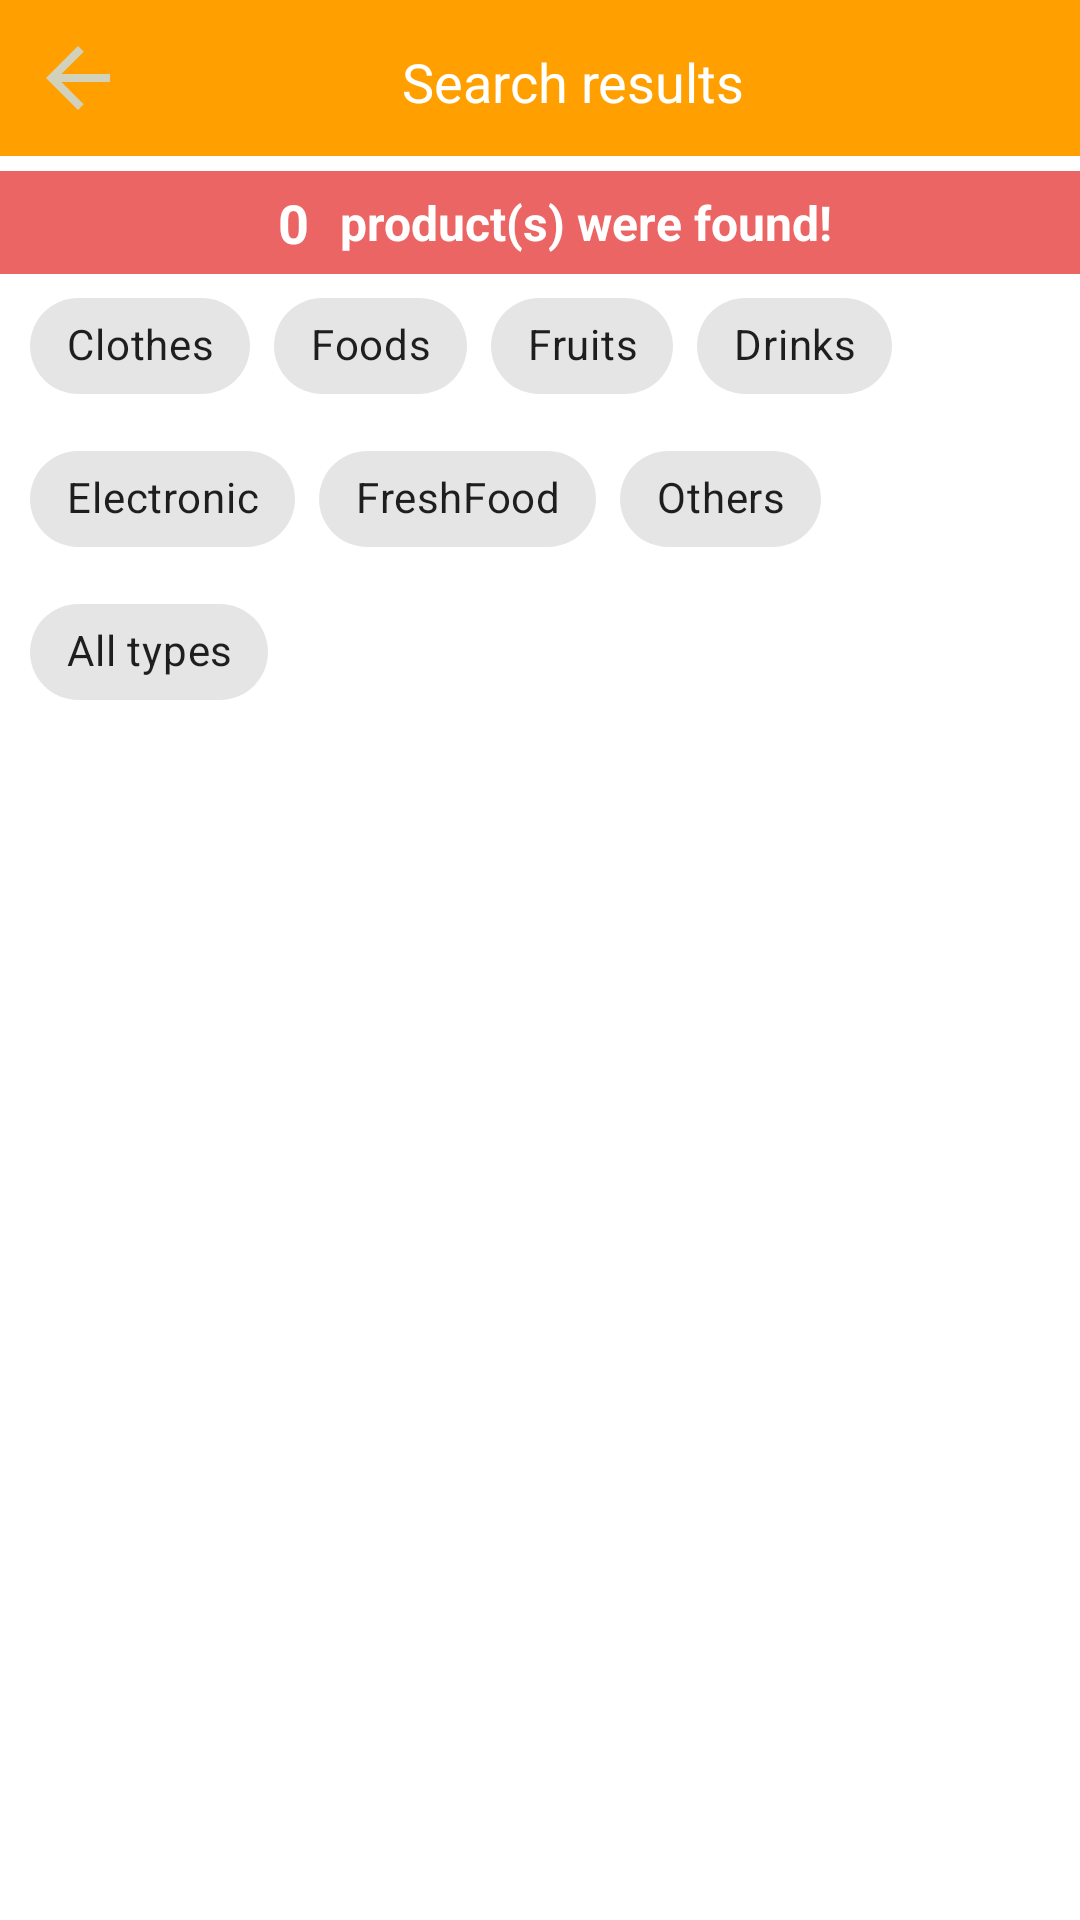

Icons on this 1080x1920 Android screen, each with its box as (x1, y1, x2, y2):
arrow back: (46, 46, 110, 110)
